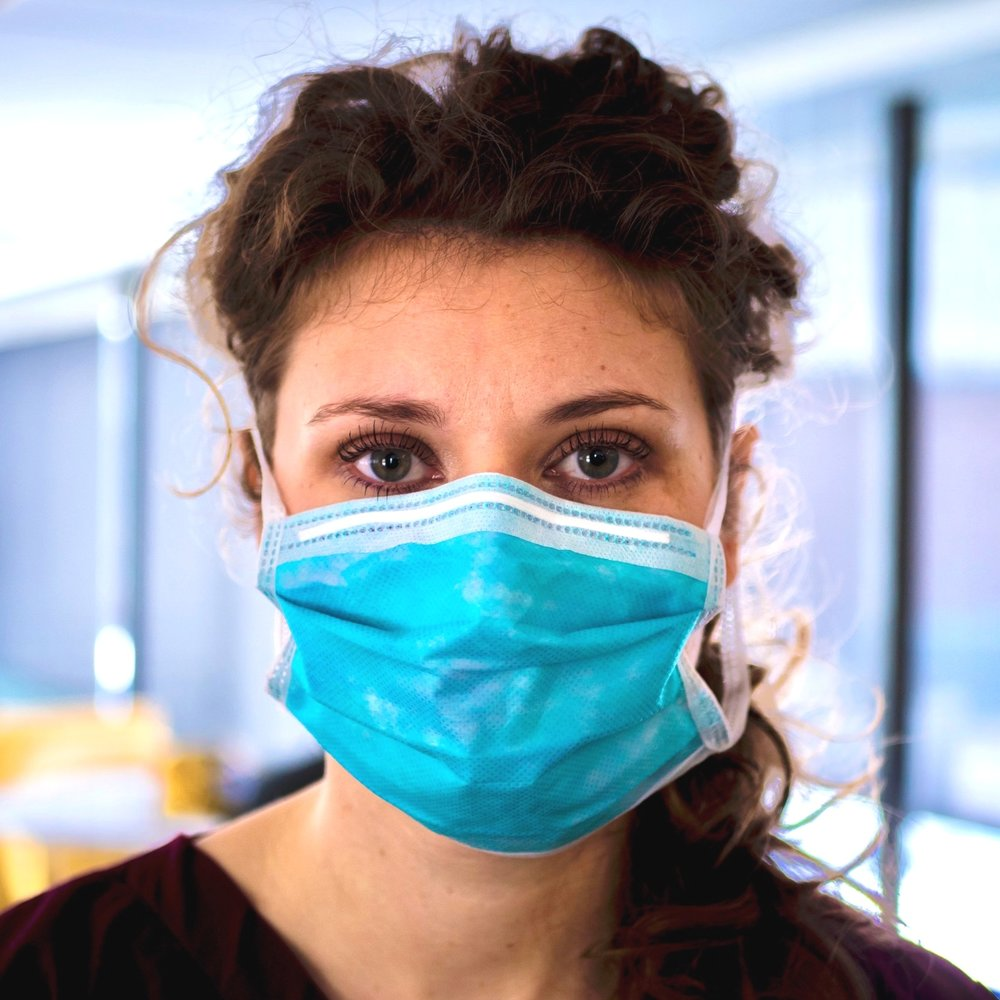with_mask: (235, 108, 810, 862)
